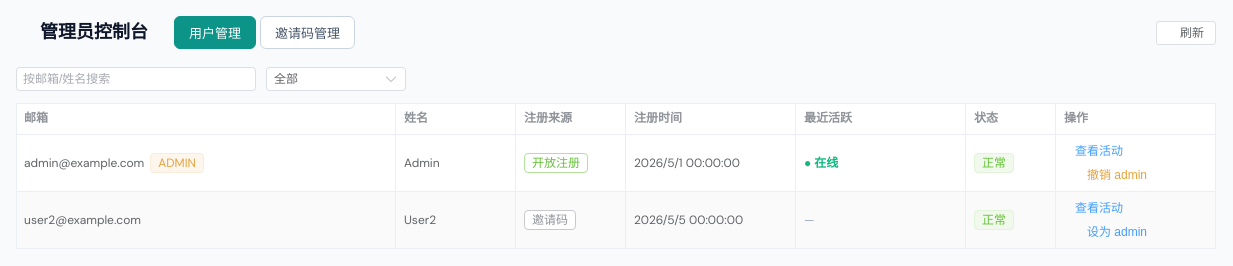
AdminUsers.vue › 切到邀请码 tab → 调 listInvitations + 渲染 invitations-section
Click the button with test id "tab-invitations" at (308, 32), box [260,16,355,49]
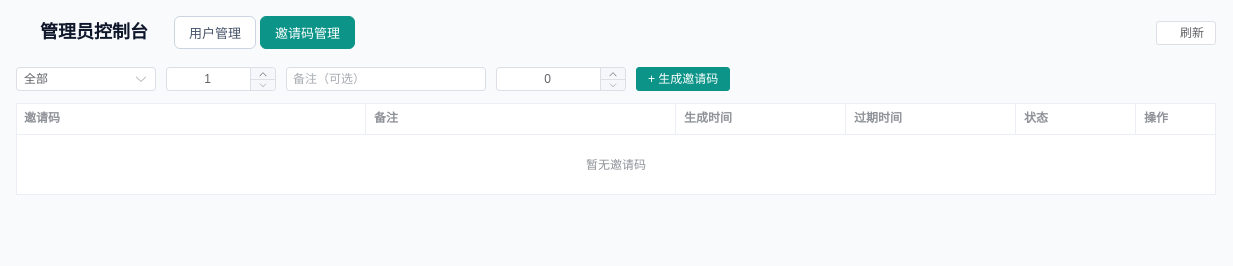
Check: the element with test id "invitations-section" is shown, box [16,67,1216,195]
